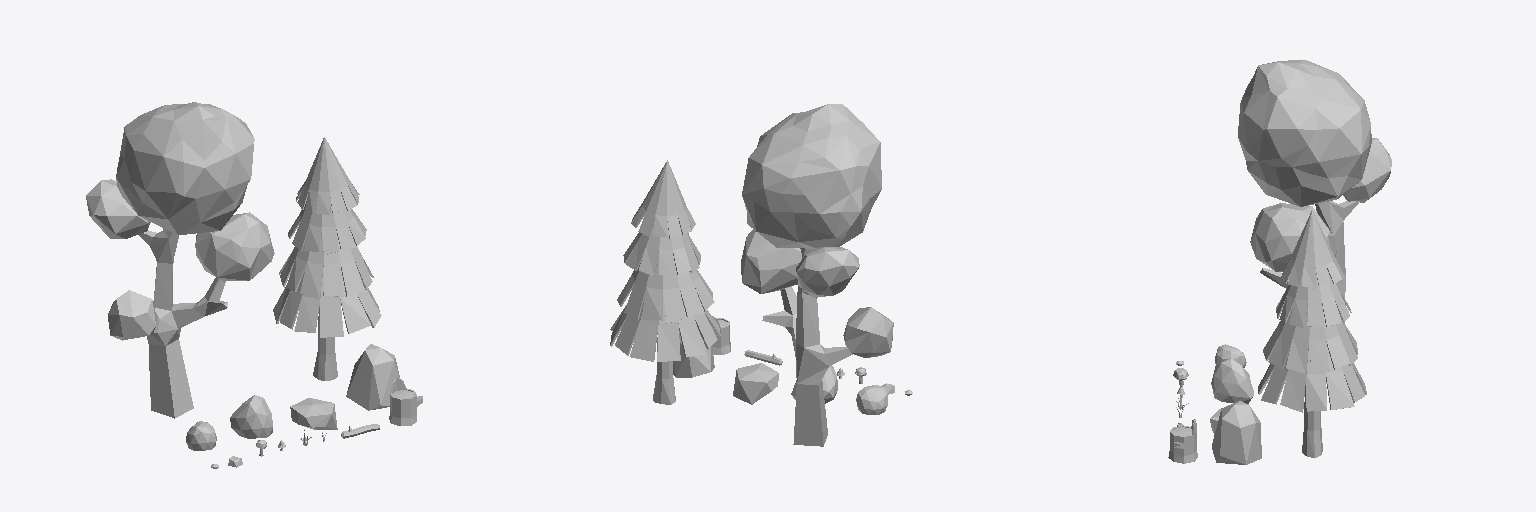
Rendered from Nature.obj.
3 views of the same model, side by side, from view 1: azimuth 30°, elevation 25°; view 2: azimuth 150°, elevation 25°; view 3: azimuth 270°, elevation 25° (orthographic).
Visible parts, largest first — view 1: Nature; view 2: Nature; view 3: Nature.
Boxes of the visible parts, box(x1,y1,x2,y2) form: Nature: box(86, 102, 422, 468); Nature: box(610, 104, 912, 446); Nature: box(1168, 60, 1391, 464).
Size of the model in its own units: 8.26 by 9.71 by 5.95.